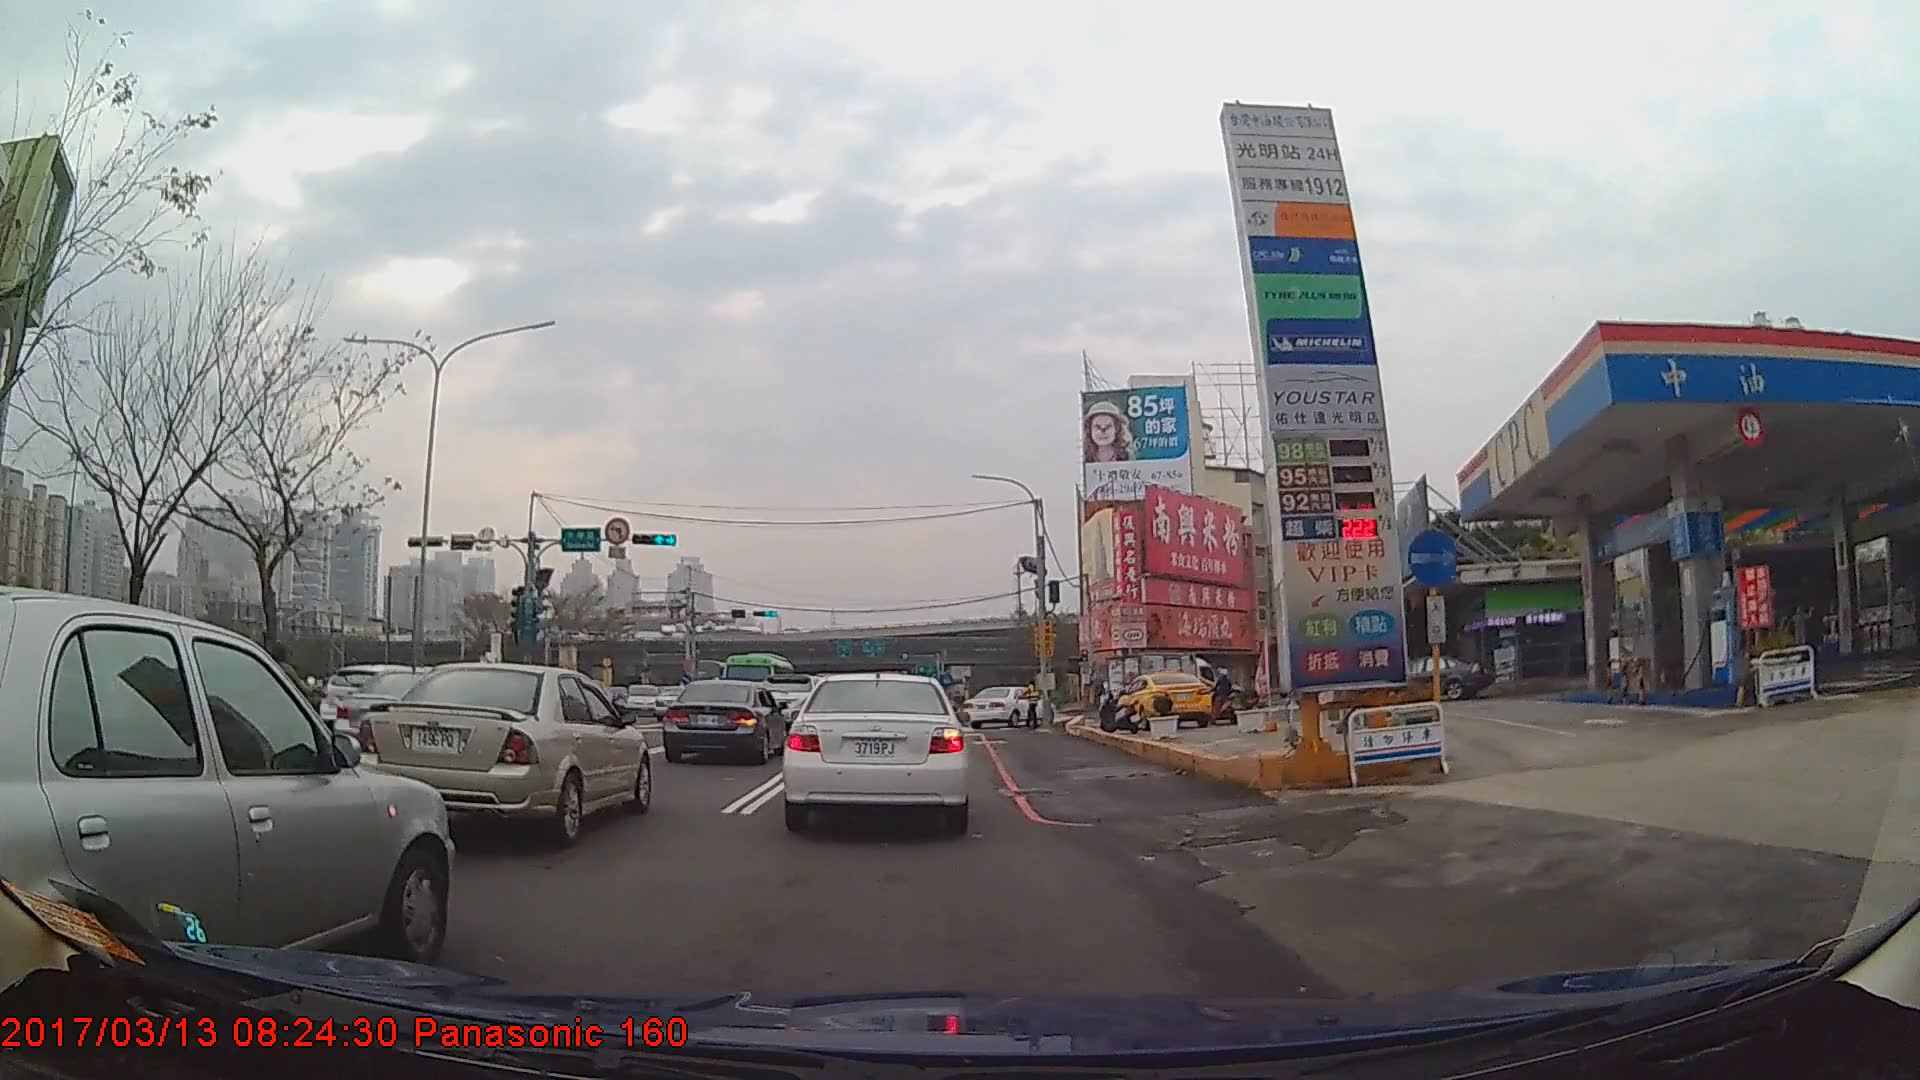rider: (246, 641, 325, 767), (1317, 659, 1357, 720), (1206, 669, 1241, 727)
vehicle: (0, 583, 455, 1003), (358, 661, 653, 845), (786, 670, 969, 831), (661, 677, 789, 766), (1103, 649, 1217, 713), (1117, 670, 1214, 728), (718, 650, 795, 709), (1389, 654, 1492, 698), (963, 683, 1054, 729)
